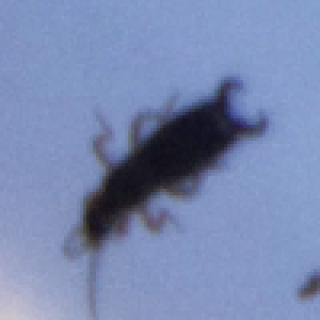earwig: (61, 67, 272, 320)
